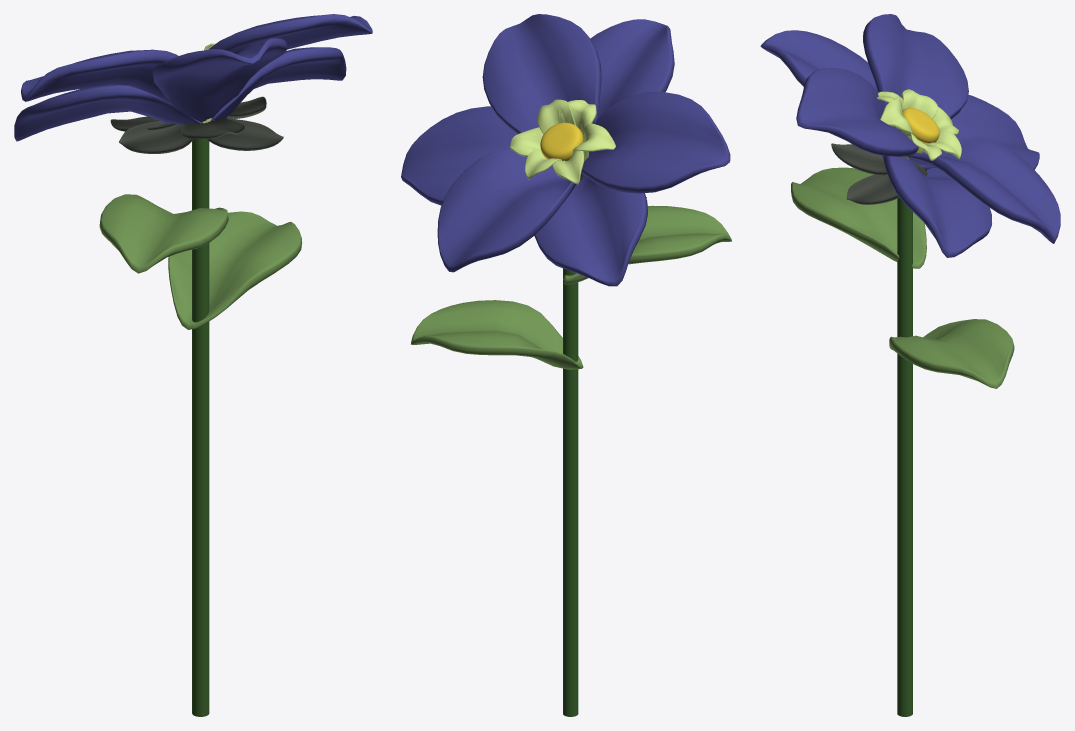
Rendered from flower1.fbx.
3 views of the same model, side by side, from view 1: azimuth 30°, elevation 25°; view 2: azimuth 150°, elevation 25°; view 3: azimuth 270°, elevation 25° (orthographic). The views are drawn at different scales.
Parts seen in each view (by area): view 1: flower10_leaf, pCylinder3; view 2: flower10_leaf, pCylinder3; view 3: flower10_leaf, pCylinder3.
Part boxes in pixels (left/top/right/bottom): flower10_leaf: left=14, top=14, right=372, bottom=329; pCylinder3: left=192, top=138, right=209, bottom=716; flower10_leaf: left=401, top=14, right=731, bottom=369; pCylinder3: left=563, top=159, right=578, bottom=716; flower10_leaf: left=760, top=14, right=1060, bottom=388; pCylinder3: left=897, top=197, right=912, bottom=716.
Size of the model in its own units: 14.93 by 30.18 by 12.38.
